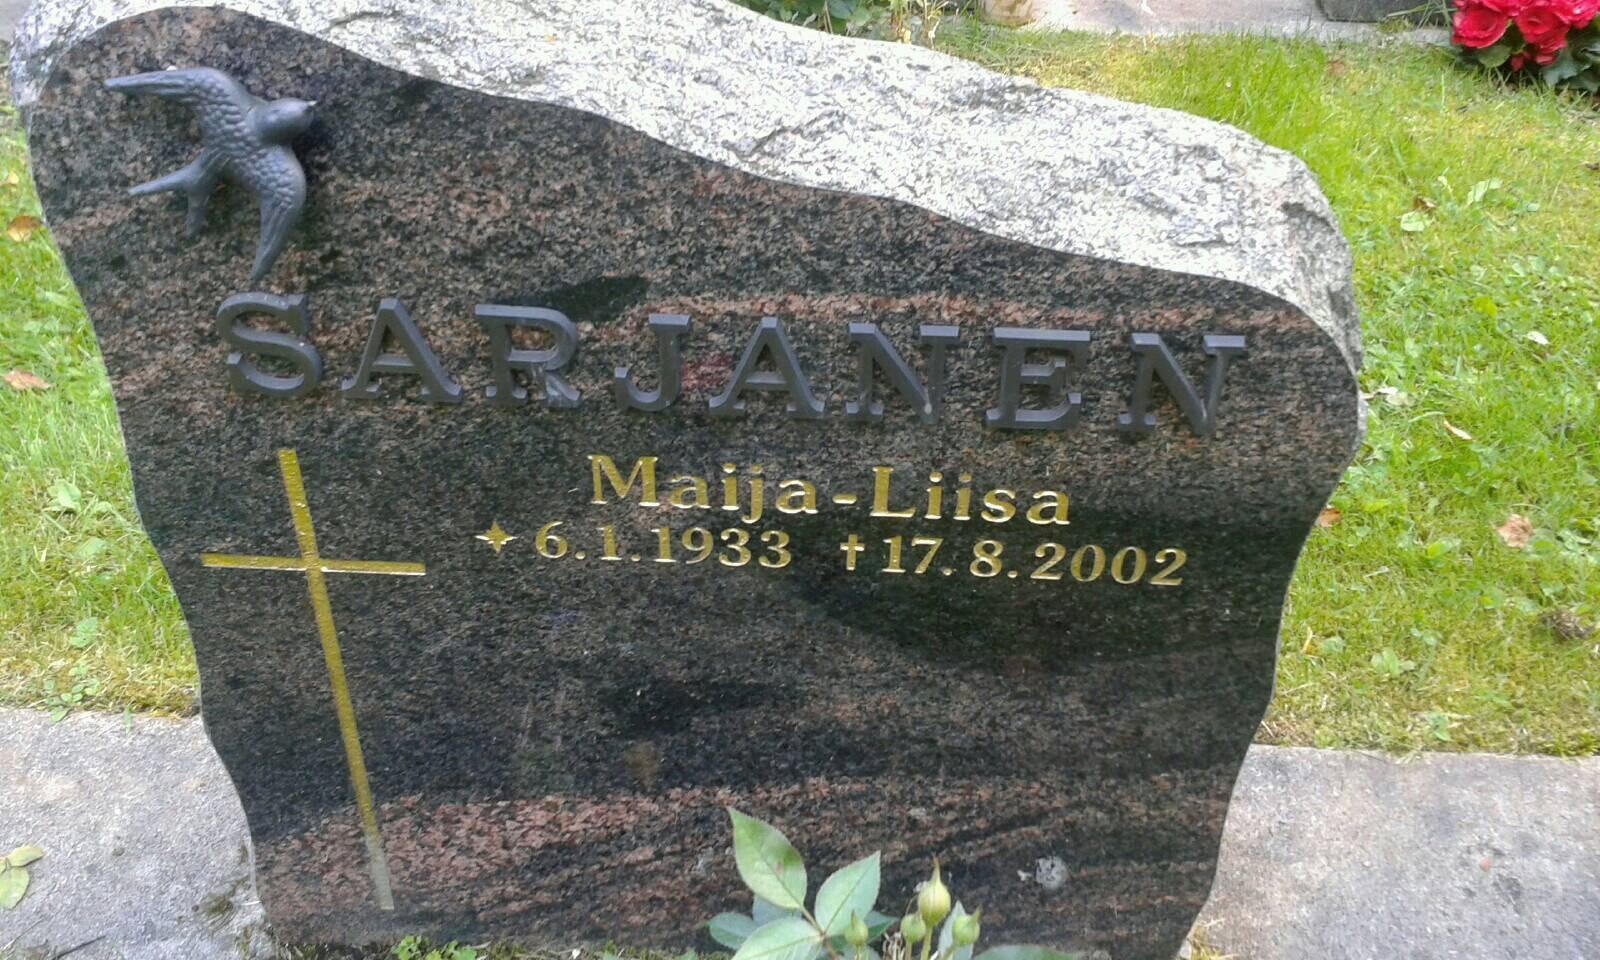upright: (5, 0, 1363, 955)
